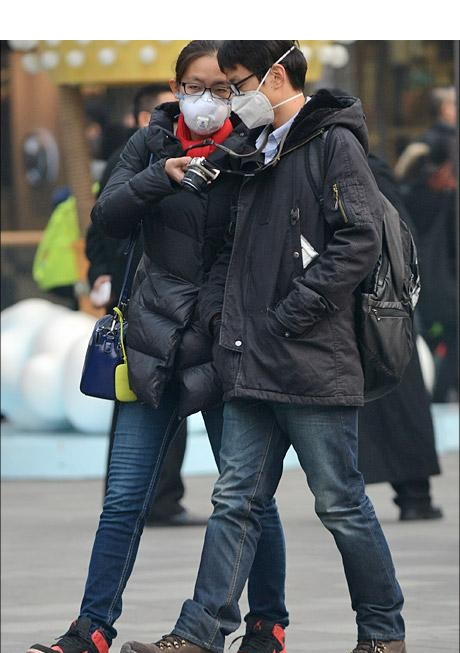face_mask: (221, 60, 269, 135), (180, 58, 226, 136)
